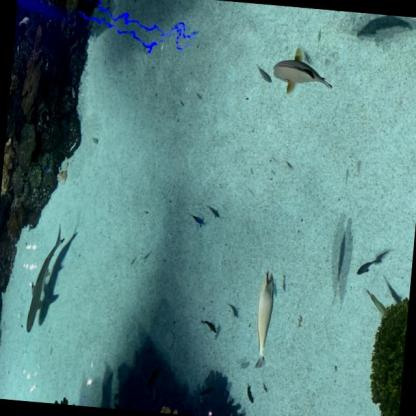fish: (270, 49, 333, 99), (252, 267, 278, 372), (355, 13, 413, 46), (366, 290, 389, 318), (355, 252, 376, 280), (336, 233, 346, 280), (254, 63, 274, 83), (201, 318, 220, 336), (244, 380, 256, 406), (189, 212, 207, 228), (206, 205, 220, 218)
shark: (25, 220, 65, 335)
